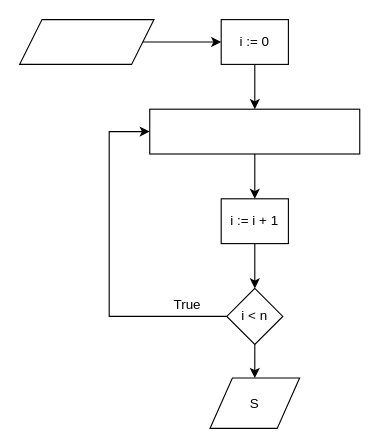
The diagram is 380 pixels wide and 448 high, and some of its shapes have lost their labels. The box of each missing label's shape, as (x1, y1, x2, y2) in pixels:
n : loop S : bits: (18, 18, 154, 64)
S:= Ascon Permutations (S): (149, 108, 360, 154)
